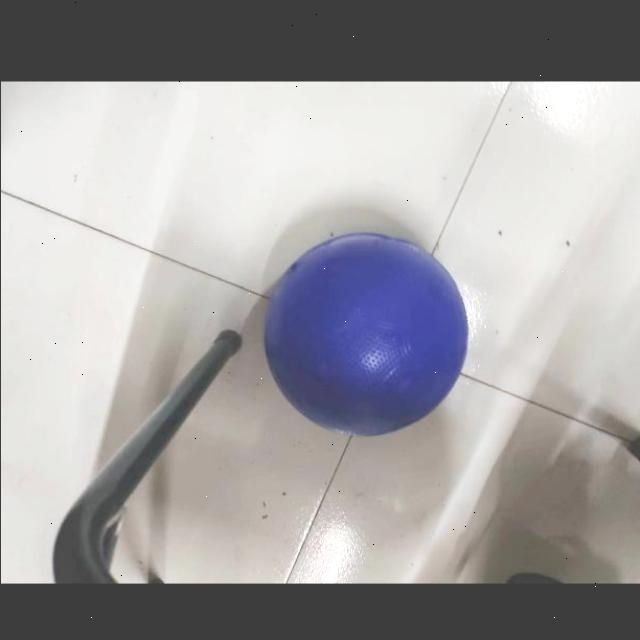B: (259, 223, 466, 445)
